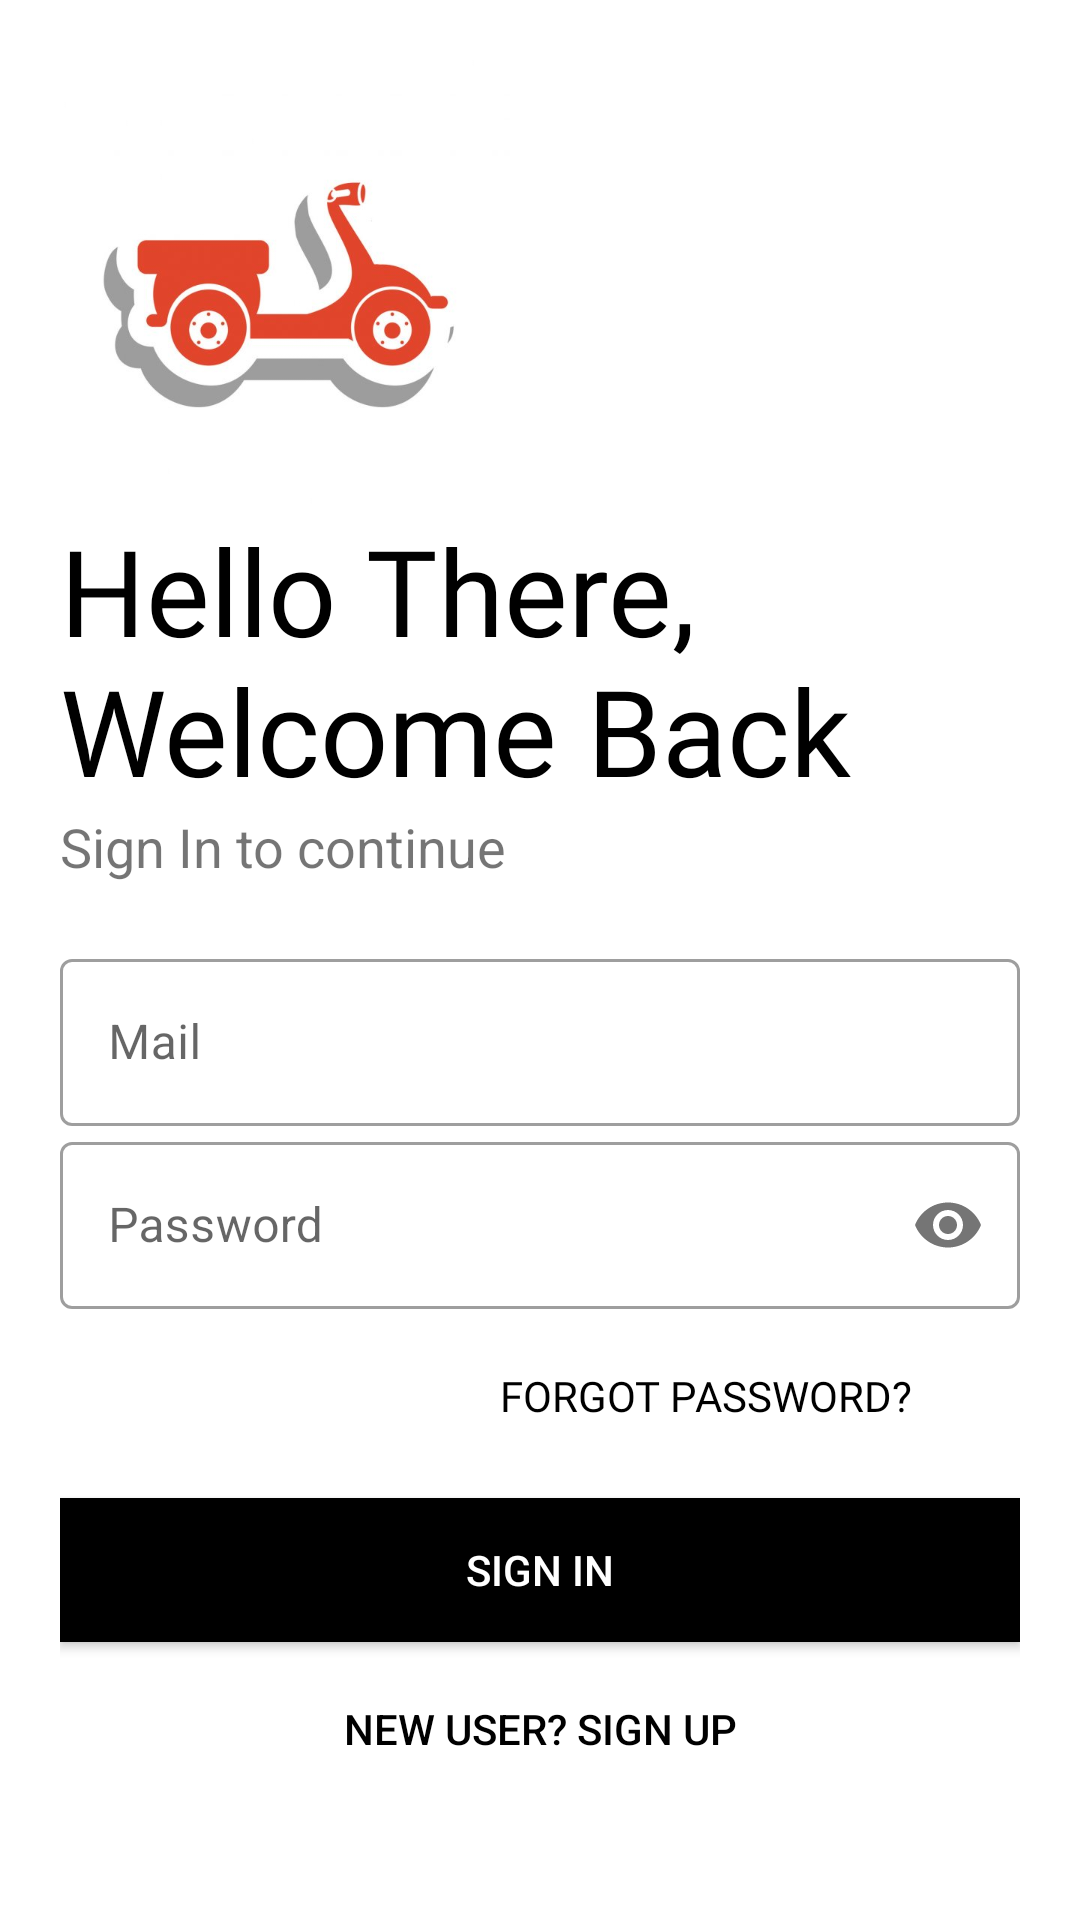

Point at icon controls on the screen. Image size 1080px x 1920px, points as [x,y].
kurye: [278,294]
